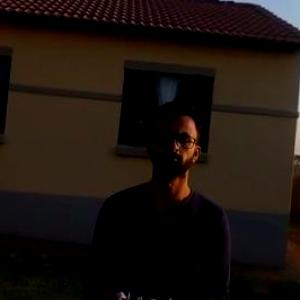follow: (75, 93, 232, 299)
